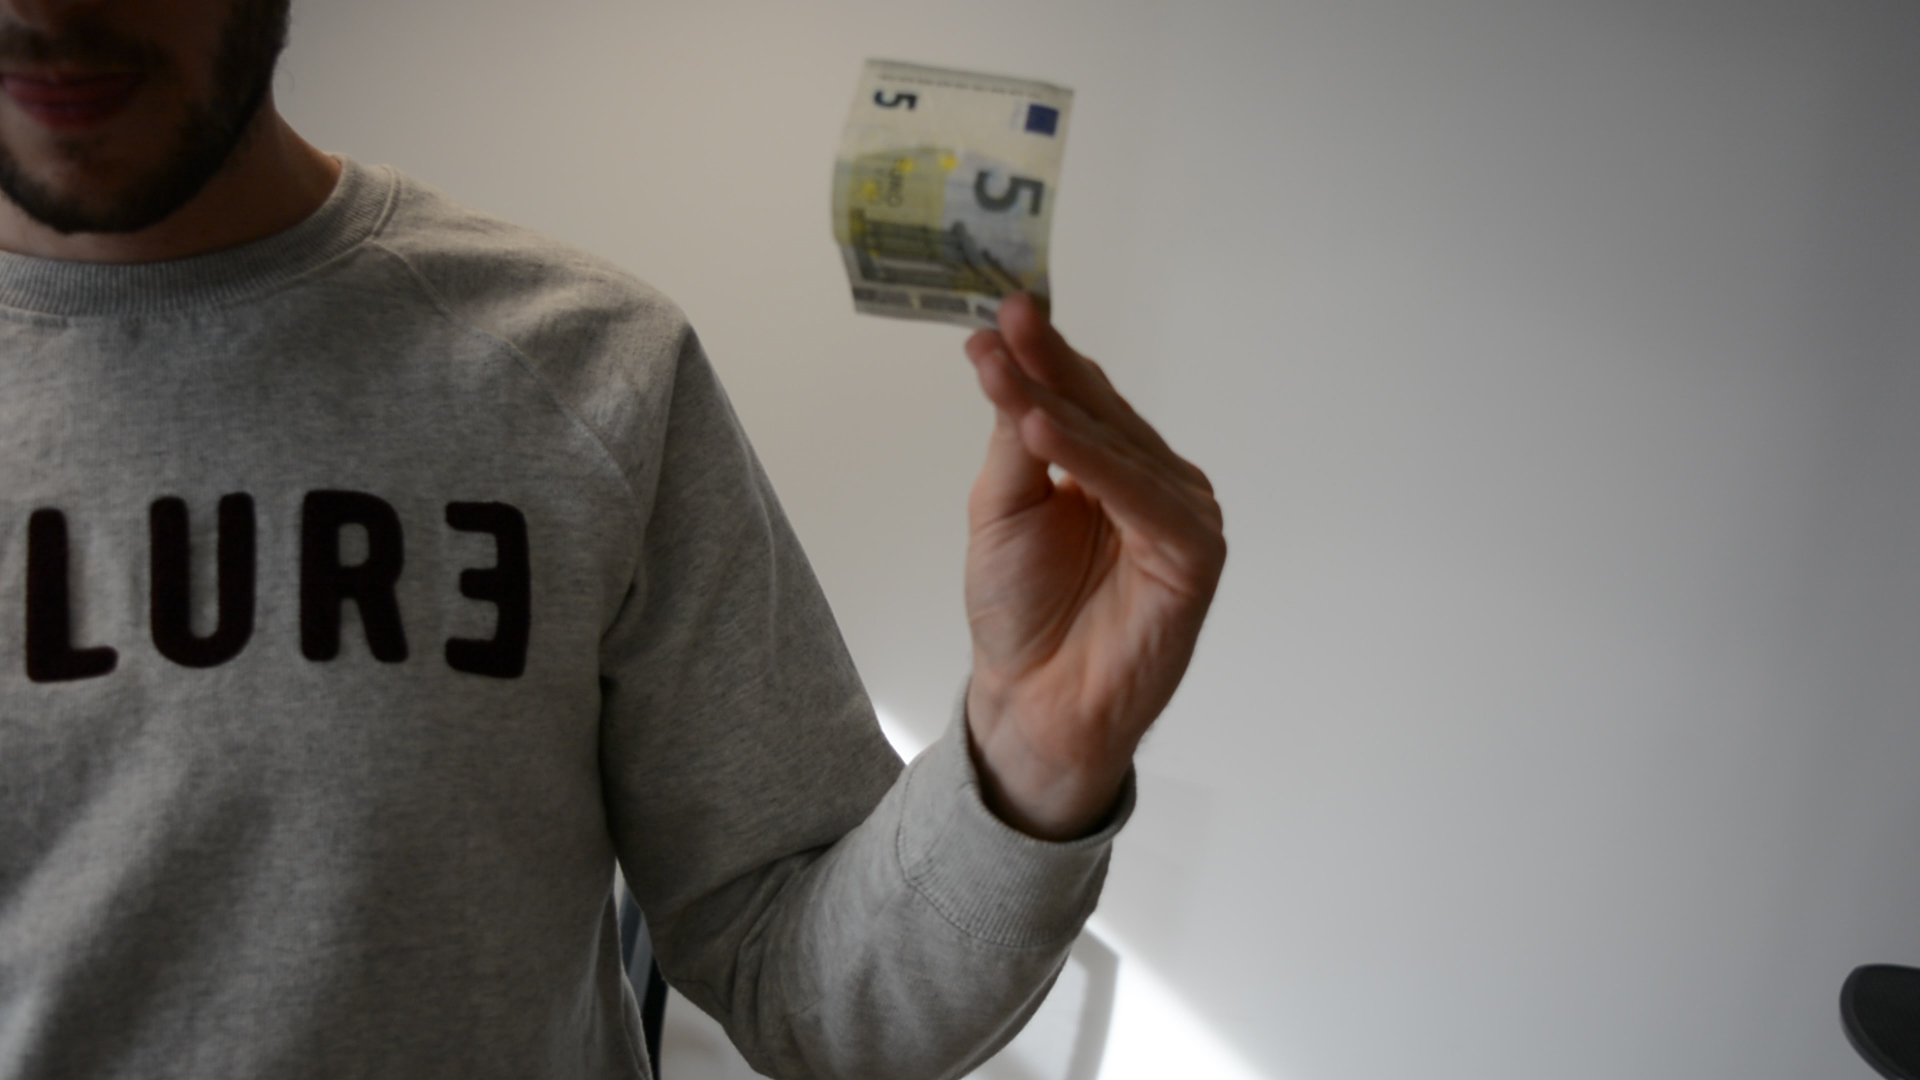billete: (829, 55, 1079, 332)
